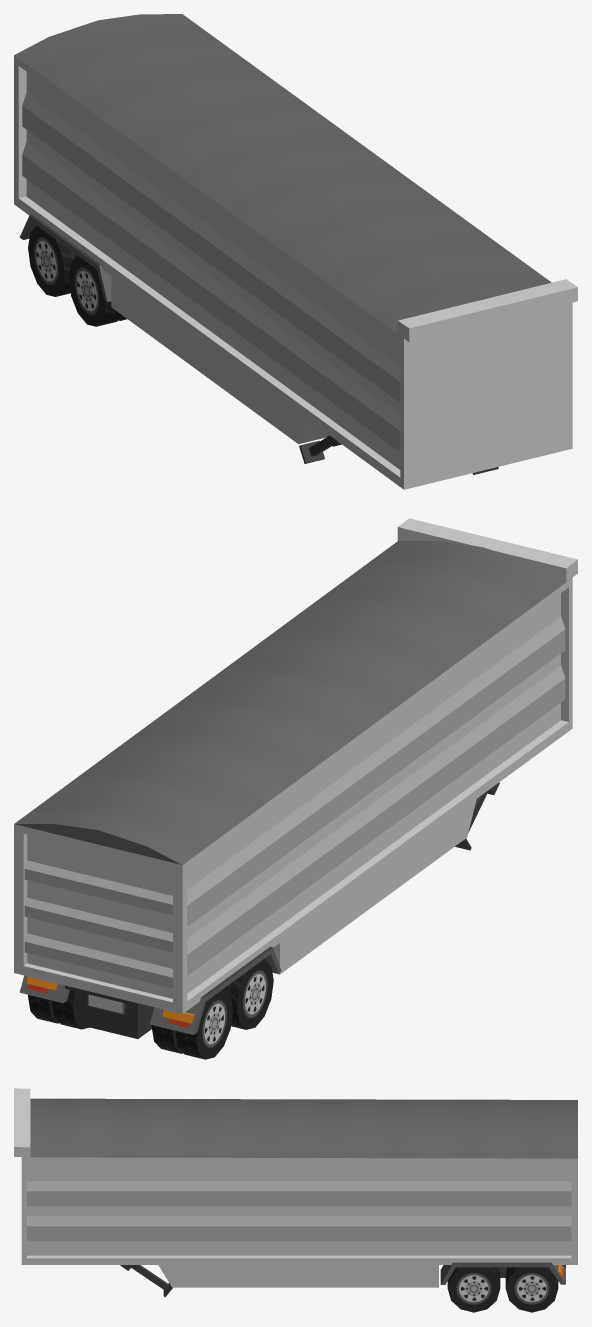
The model's file is TruckTrailerA.fbx.
The picture shows the model from 3 angles, top to bottom: view 1: azimuth 30°, elevation 25°; view 2: azimuth 150°, elevation 25°; view 3: azimuth 270°, elevation 25°; orthographic projection. The views are drawn at different scales.
Parts seen in each view (by area): view 1: TruckTrailerA, TireRY, TireRX, TruckTrailerPivots; view 2: TruckTrailerA, TireRY, TireRX, TireLY; view 3: TruckTrailerA, TireLX, TireLY, TruckTrailerPivots.
Boxes of the visible parts, x1=… form: TruckTrailerA: x1=14, y1=14, x2=577, y2=489; TireRY: x1=28, y1=226, x2=77, y2=296; TireRX: x1=68, y1=255, x2=127, y2=326; TruckTrailerPivots: x1=299, y1=435, x2=341, y2=463; TruckTrailerA: x1=14, y1=518, x2=577, y2=1038; TireRY: x1=151, y1=988, x2=232, y2=1059; TireRX: x1=224, y1=958, x2=273, y2=1029; TireLY: x1=28, y1=990, x2=89, y2=1029; TruckTrailerA: x1=14, y1=1088, x2=577, y2=1287; TireLX: x1=447, y1=1267, x2=500, y2=1312; TireLY: x1=505, y1=1267, x2=558, y2=1312; TruckTrailerPivots: x1=120, y1=1265, x2=172, y2=1297.
Bounding box in the file's own units: 232 × 296 × 913.
